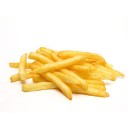frenchfries: (8, 46, 126, 100)
